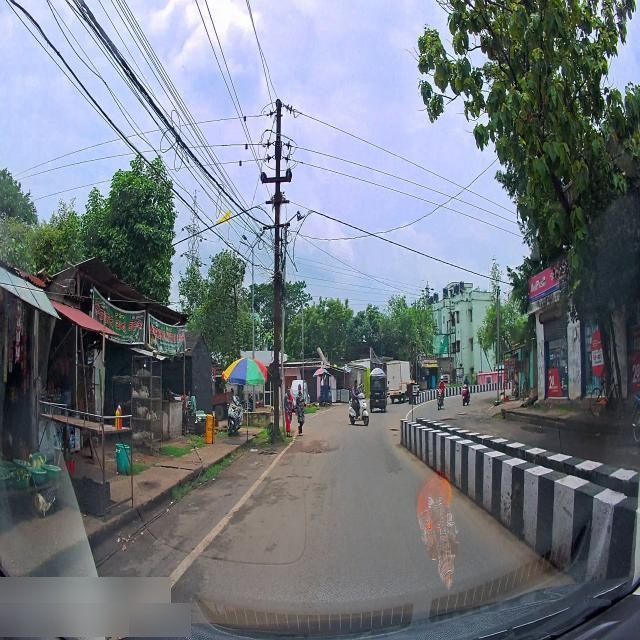pothole: (302, 443, 328, 456)
